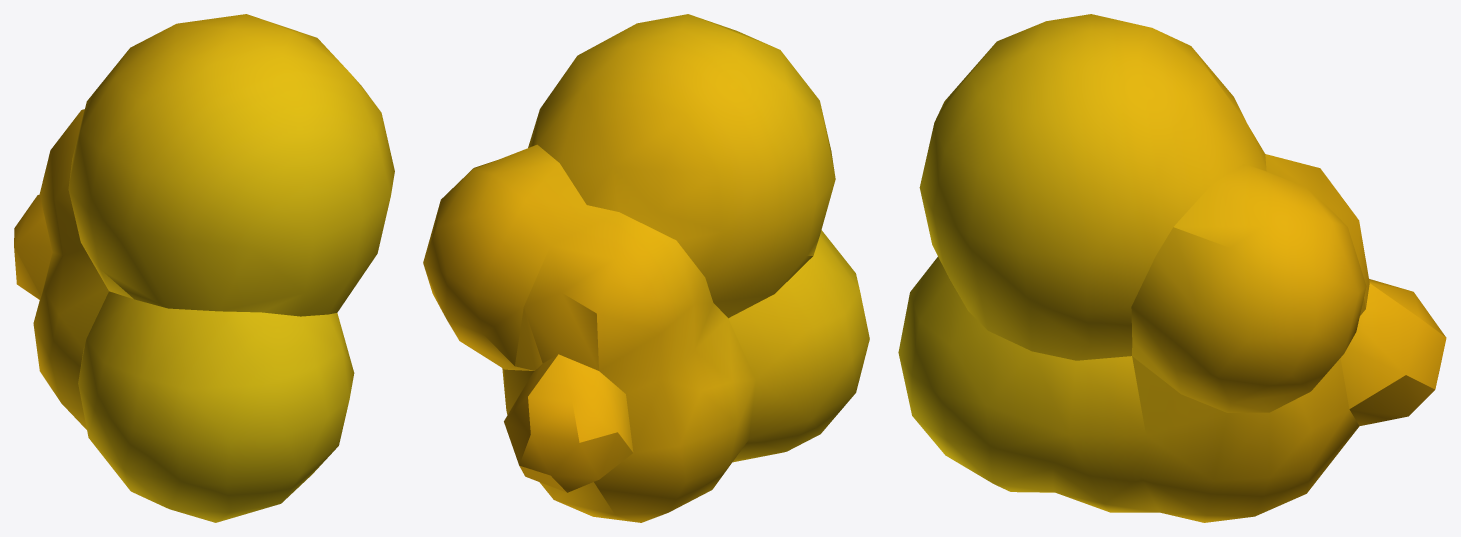
Rendered from Jagoite.fbx.
3 views of the same model, side by side, from view 1: azimuth 30°, elevation 25°; view 2: azimuth 150°, elevation 25°; view 3: azimuth 270°, elevation 25° (orthographic). The views are drawn at different scales.
Visible parts, largest first — view 1: JAGOITE.001; view 2: JAGOITE.001; view 3: JAGOITE.001.
Boxes of the visible parts, <box> form: JAGOITE.001: <box>14,14,394,522</box>; JAGOITE.001: <box>423,14,869,522</box>; JAGOITE.001: <box>898,14,1446,522</box>.
Bounding box in the file's own units: 132 × 170 × 175.
1 material, 1 textured.
